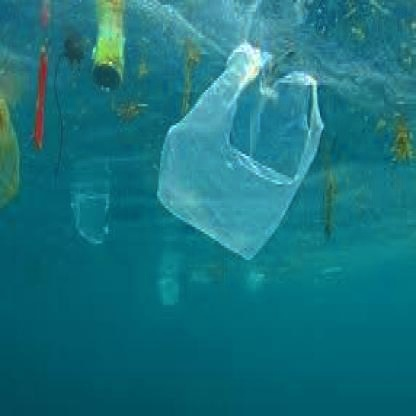pbag: (153, 43, 324, 260)
